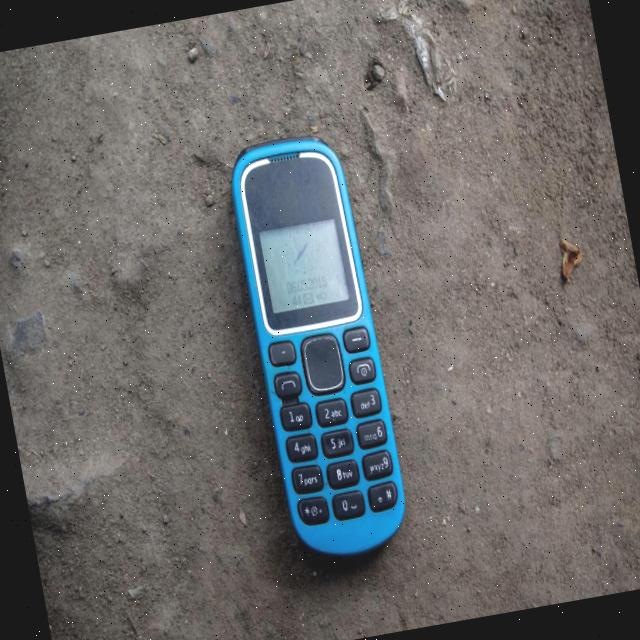Phone: (216, 121, 418, 564)
